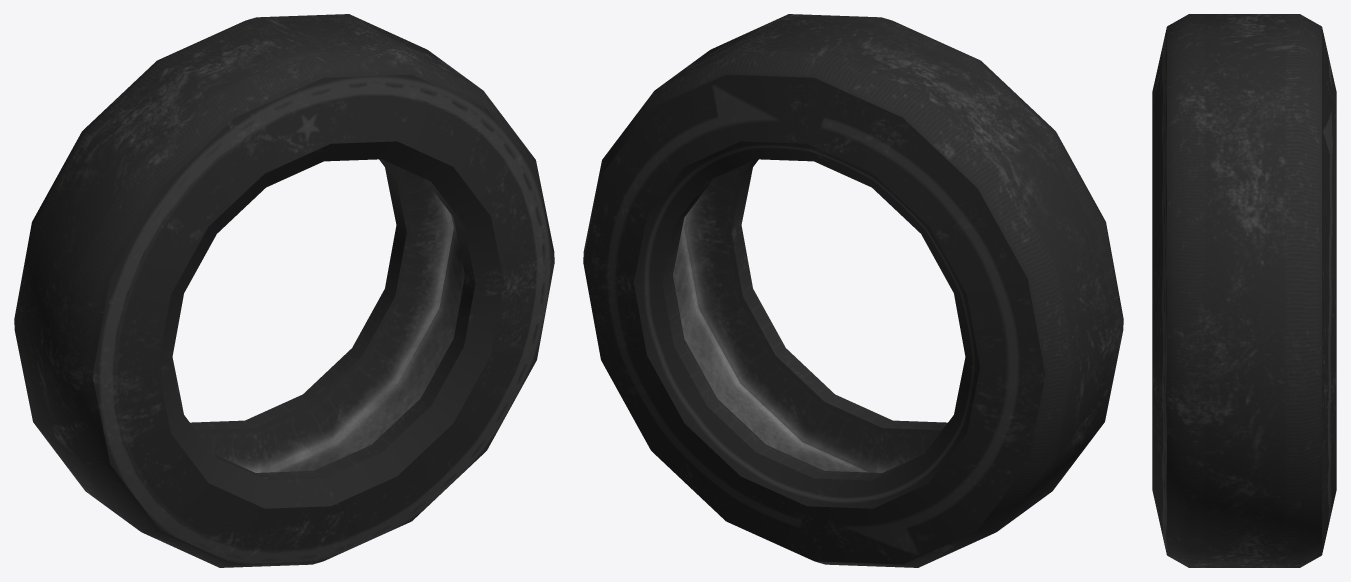
The model's file is TIRE_lowpoly_FBX.fbx.
3 views of the same model, side by side, from view 1: azimuth 30°, elevation 25°; view 2: azimuth 150°, elevation 25°; view 3: azimuth 270°, elevation 25° (orthographic).
Parts seen in each view (by area): view 1: TIRE; view 2: TIRE; view 3: TIRE.
Boxes of the visible parts, x1,y1,x2,y2 form: TIRE: (14, 14, 554, 567); TIRE: (583, 14, 1123, 567); TIRE: (1152, 14, 1336, 567).
Bounding box in the file's own units: 200 × 200 × 66.59.
Materials: 1 (1 with a texture image).
